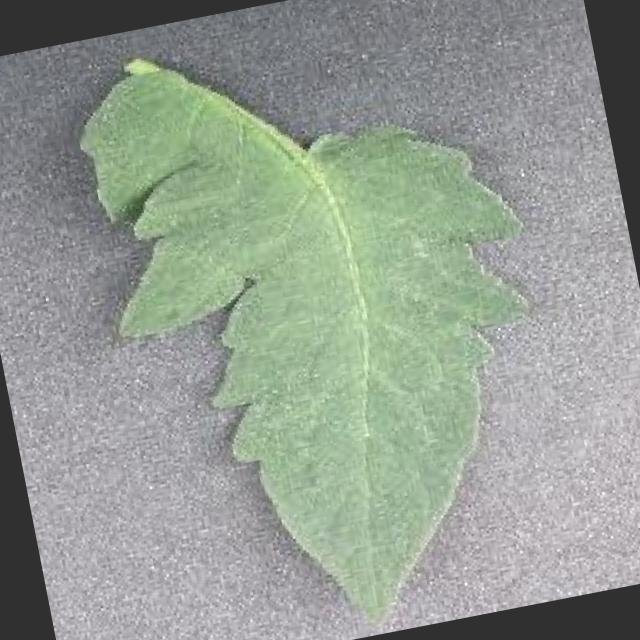healthy: (86, 55, 536, 628)
